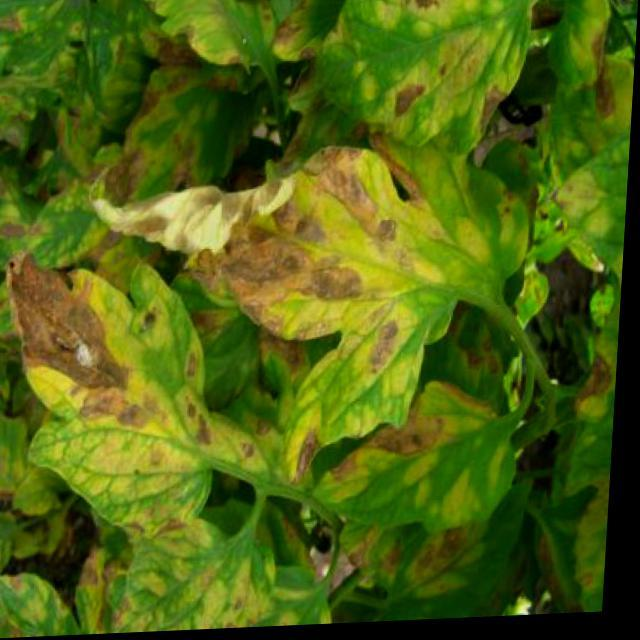Tomato mold leaf: (90, 153, 538, 461), (0, 216, 241, 554), (291, 0, 577, 163), (313, 386, 534, 548)
